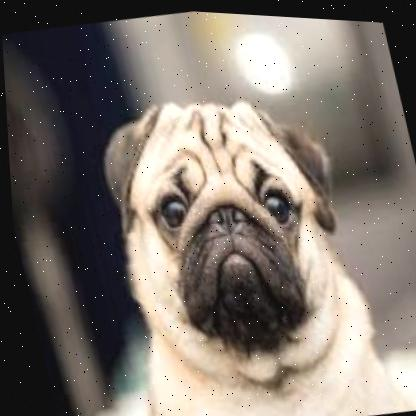dog: (71, 64, 413, 416)
